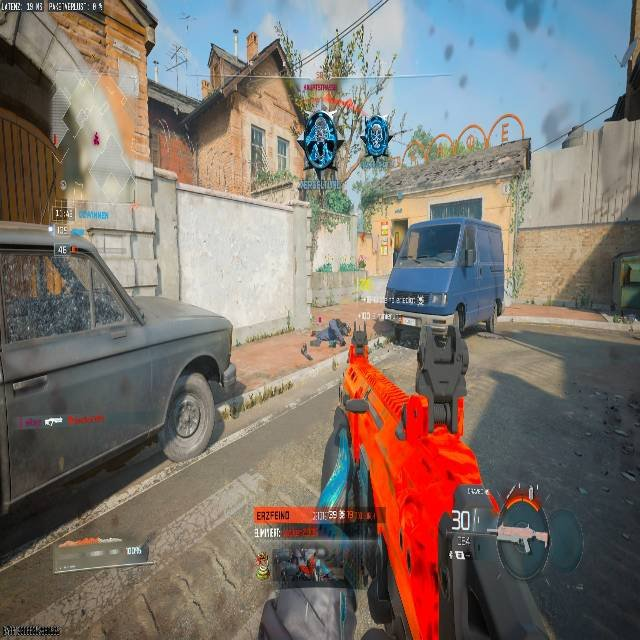player: (301, 107, 339, 179)
